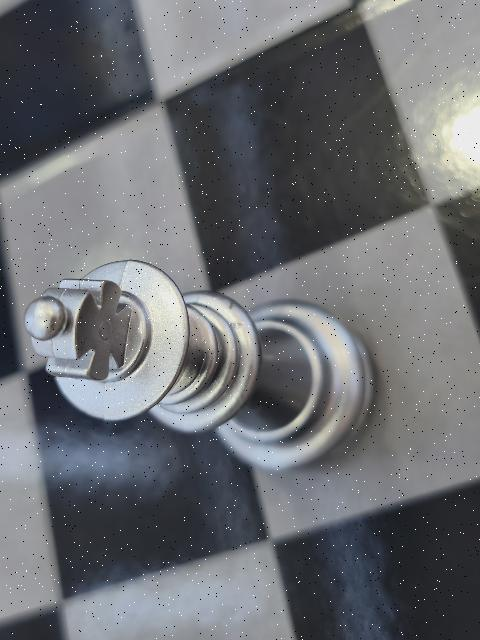white_king: (21, 259, 364, 470)
